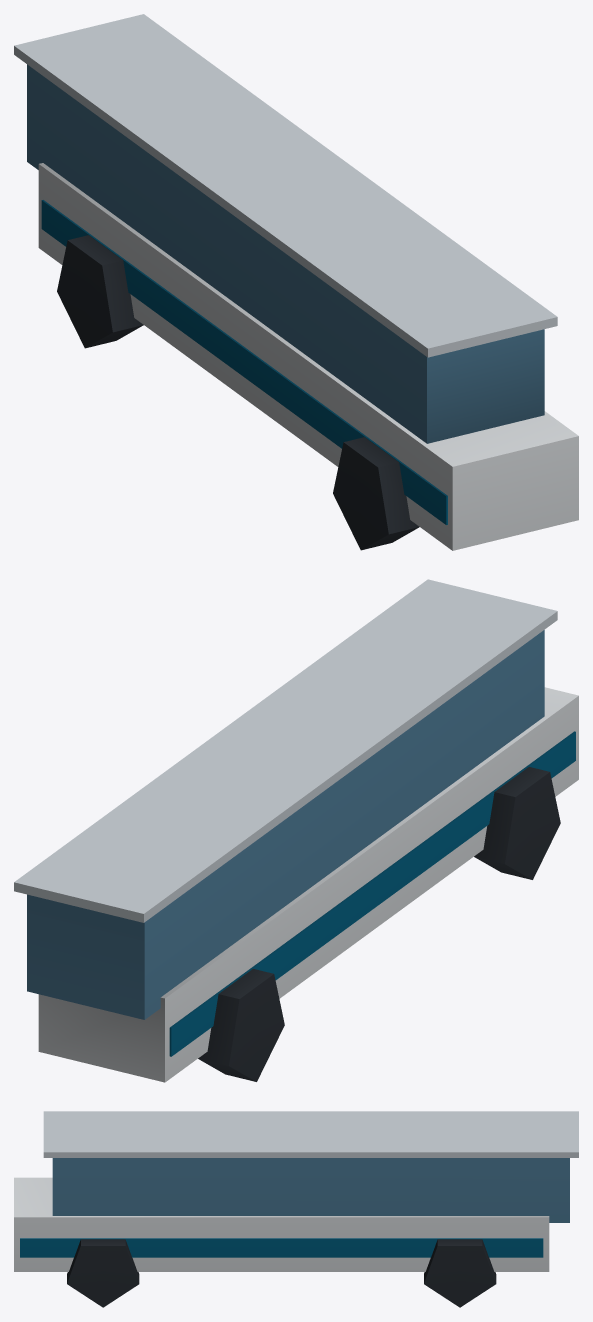
Rendered from shuttle-bus.glb.
3 views of the same model, one above another, from view 1: azimuth 30°, elevation 25°; view 2: azimuth 150°, elevation 25°; view 3: azimuth 270°, elevation 25° (orthographic). The views are drawn at different scales.
Visible parts, largest first — view 1: shuttle-bus; view 2: shuttle-bus; view 3: shuttle-bus.
Boxes of the visible parts, bbox=[...] form: shuttle-bus: bbox=[14, 14, 578, 550]; shuttle-bus: bbox=[14, 579, 578, 1082]; shuttle-bus: bbox=[14, 1111, 578, 1307].
Bounding box in the file's own units: 2.5 × 3.2 × 11.
